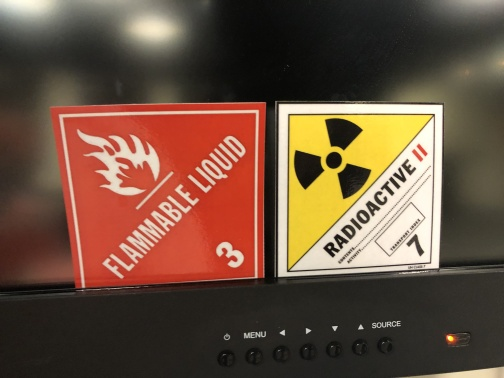FlammableLiquid: (50, 103, 268, 290)
Radioactive: (276, 99, 445, 278)
